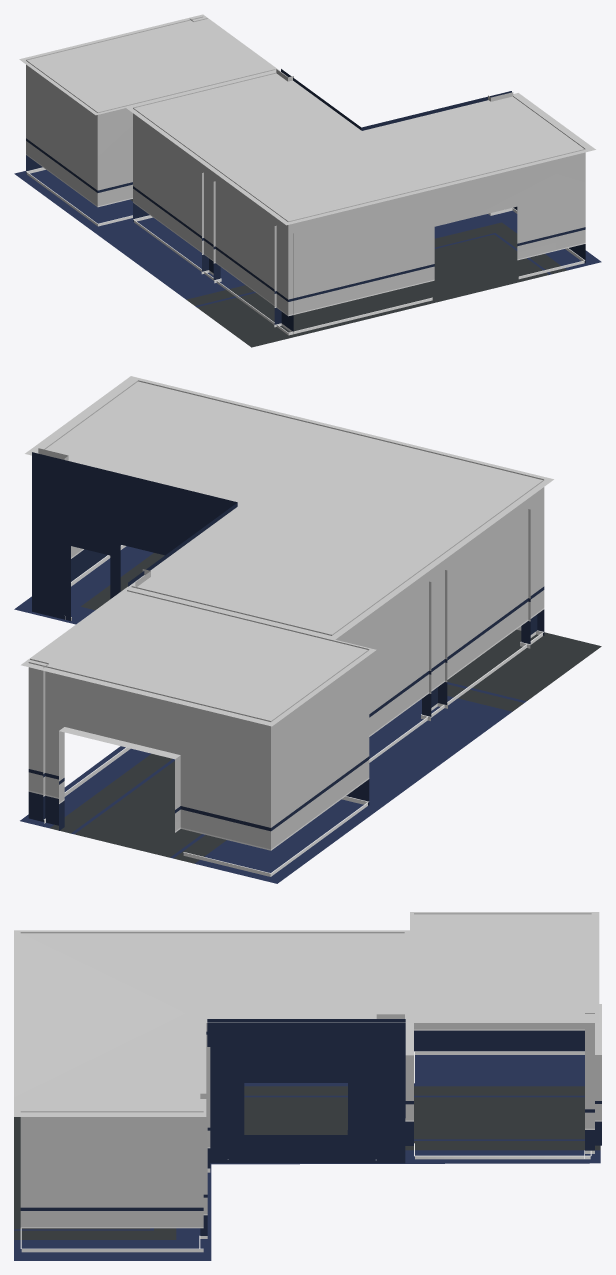
The model's file is SM_H_Building_Tide_PrisonMainInter_04_ATLAS.fbx.
3 renders of one model, top to bottom at view 1: azimuth 30°, elevation 25°; view 2: azimuth 150°, elevation 25°; view 3: azimuth 270°, elevation 25°, orthographic. The views are drawn at different scales.
Parts seen in each view (by area): view 1: SM_H_Building_Tide_PrisonMainInter_04_ATLAS; view 2: SM_H_Building_Tide_PrisonMainInter_04_ATLAS; view 3: SM_H_Building_Tide_PrisonMainInter_04_ATLAS.
Part boxes in pixels (<box>): SM_H_Building_Tide_PrisonMainInter_04_ATLAS: <box>14,14,601,347</box>; SM_H_Building_Tide_PrisonMainInter_04_ATLAS: <box>14,376,601,883</box>; SM_H_Building_Tide_PrisonMainInter_04_ATLAS: <box>14,912,601,1260</box>.
Bounding box in the file's own units: 1743 × 2052 × 562.
